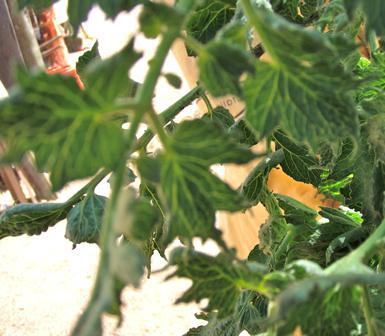Tomato leaf mosaic virus: (0, 41, 152, 184), (241, 48, 357, 151), (140, 120, 238, 233), (165, 252, 254, 316), (265, 129, 334, 199), (295, 275, 364, 336), (0, 197, 74, 250)
